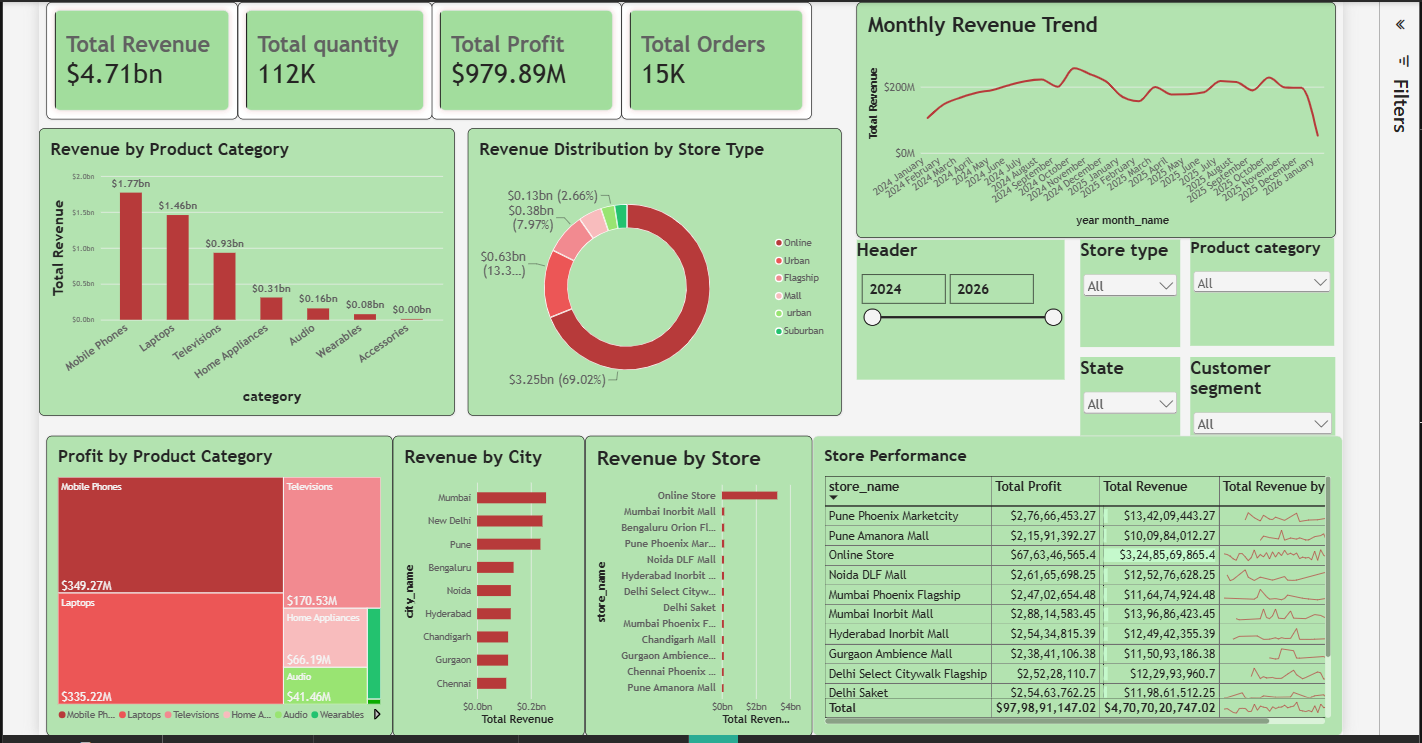

Layout of this report page (visuals, bound fields, positions):
{"tool":"powerbi","page":{"name":"Retail Sales Dashboard","canvas":[1920,1080],"ordinal":1},"visuals":[{"type":"cardVisual","fields":{"Data":["Fact Sales.Total Revenue"]},"box":[10.3,0,282,172.9],"z":0},{"type":"cardVisual","fields":{"Data":["Fact Sales.Total Profit"]},"box":[578.4,0,279.9,172.9],"z":1000},{"type":"cardVisual","fields":{"Data":["Fact Sales.Total Orders"]},"box":[858.3,0,279.9,172.9],"z":2000},{"type":"cardVisual","fields":{"Data":["Fact Sales.Total quantity"]},"box":[292.3,0,286.1,172.9],"z":3000},{"type":"clusteredColumnChart","title":"Revenue by Product Category","fields":{"Category":["Dim Product.category","Dim Product.subcategory"],"Y":["Fact Sales.Total Revenue"]},"box":[0,186.6,612,423.6],"z":4000},{"type":"treemap","title":"Profit by Product Category","fields":{"Group":["Dim Product.category"],"Values":["Fact Sales.Total Profit"]},"box":[11.2,638.2,509.4,442.2],"z":5000},{"type":"clusteredBarChart","title":"Revenue by Store","fields":{"Category":["Dim Store.store_name"],"Y":["Fact Sales.Total Revenue"]},"box":[804.2,638.2,334.8,443.4],"z":6000},{"type":"lineChart","title":" Monthly Revenue Trend","fields":{"Category":["Dim Date.year","Dim Date.month_name"],"Y":["Fact Sales.Total Revenue"]},"box":[1203.4,0,705.8,347.5],"z":7000},{"type":"donutChart","title":"Revenue Distribution by Store Type","fields":{"Category":["Dim Store.store_type"],"Y":["Fact Sales.Total Revenue"]},"box":[630.7,186.6,550.5,423.6],"z":8000},{"type":"clusteredBarChart","title":"Revenue by City","fields":{"Category":["Dim City.city_name"],"Y":["Fact Sales.Total Revenue"]},"box":[520.6,638.2,282.3,443.4],"z":9000},{"type":"slicer","title":"Product category","fields":{"Values":["Dim Product.category"]},"box":[1695.1,347.9,211.7,158.3],"z":10000},{"type":"slicer","title":"Store type","fields":{"Values":["Dim Store.store_type"]},"box":[1533.1,349.7,147.2,158.3],"z":11000},{"type":"slicer","title":"Customer segment","fields":{"Values":["Dim Customer.customer_segment"]},"box":[1695.1,522.7,213.5,116],"z":12000},{"type":"slicer","title":"State","fields":{"Values":["Dim State.state_name"]},"box":[1533.1,522.7,147.2,116],"z":13000},{"type":"slicer","title":"Header","fields":{"Values":["Dim Date.year"]},"box":[1203.5,348.9,306,206],"z":14000},{"type":"tableEx","title":"Store Performance","fields":{"Values":["Dim Store.store_name","Fact Sales.Total Profit","Fact Sales.Total Revenue","SparklineData(Fact Sales.Total Revenue_[Dim Date.full_date])"]},"box":[1139.3,638.7,780.4,441.7],"z":14001}]}

Visuals, with their boxes on the page's 1920x1080 design canvas (x1, y1, x2, y2). These are canvas units, not pixel positions in the 1422x743 screenshot, which may show the page scaled, cropped or inside an application window:
cardVisual - Fact Sales.Total Revenue: crop(10, 0, 292, 173)
cardVisual - Fact Sales.Total Profit: crop(578, 0, 858, 173)
cardVisual - Fact Sales.Total Orders: crop(858, 0, 1138, 173)
cardVisual - Fact Sales.Total quantity: crop(292, 0, 578, 173)
"Revenue by Product Category" clusteredColumnChart: crop(0, 187, 612, 610)
"Profit by Product Category" treemap: crop(11, 638, 521, 1080)
"Revenue by Store" clusteredBarChart: crop(804, 638, 1139, 1082)
" Monthly Revenue Trend" lineChart: crop(1203, 0, 1909, 348)
"Revenue Distribution by Store Type" donutChart: crop(631, 187, 1181, 610)
"Revenue by City" clusteredBarChart: crop(521, 638, 803, 1082)
"Product category" slicer: crop(1695, 348, 1907, 506)
"Store type" slicer: crop(1533, 350, 1680, 508)
"Customer segment" slicer: crop(1695, 523, 1909, 639)
"State" slicer: crop(1533, 523, 1680, 639)
"Header" slicer: crop(1204, 349, 1510, 555)
"Store Performance" tableEx: crop(1139, 639, 1920, 1080)
